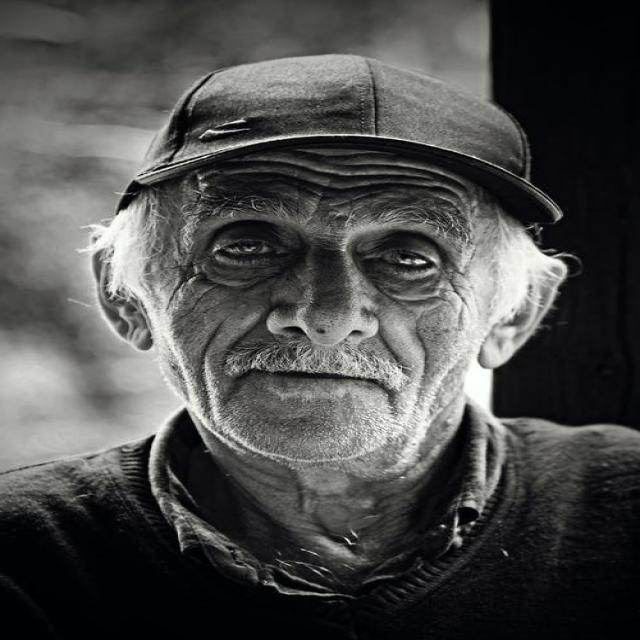Wrinkles: (232, 173, 462, 200), (223, 160, 432, 181), (346, 191, 463, 212), (417, 332, 427, 405), (166, 280, 186, 312), (451, 281, 465, 306), (197, 286, 217, 301)
